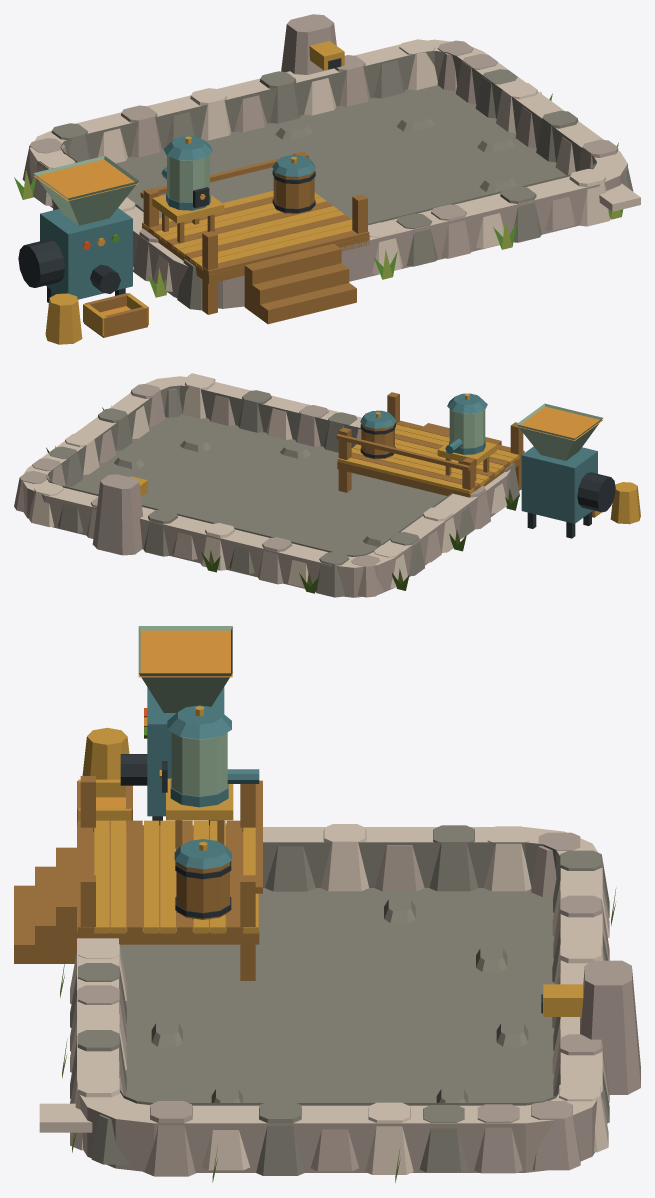
Rendered from FishPond_A_Lv2_Medium.fbx.
3 renders of one model, top to bottom at view 1: azimuth 30°, elevation 25°; view 2: azimuth 150°, elevation 25°; view 3: azimuth 270°, elevation 25°, orthographic. The views are drawn at different scales.
Parts seen in each view (by area): view 1: FishPond_A_Lv2_Medium; view 2: FishPond_A_Lv2_Medium; view 3: FishPond_A_Lv2_Medium.
Boxes of the visible parts, x1,y1,x2,y2 form: FishPond_A_Lv2_Medium: (14, 14, 640, 344); FishPond_A_Lv2_Medium: (14, 373, 640, 597); FishPond_A_Lv2_Medium: (14, 626, 640, 1182).
Bounding box in the file's own units: 13.74 × 2.99 × 8.95.
